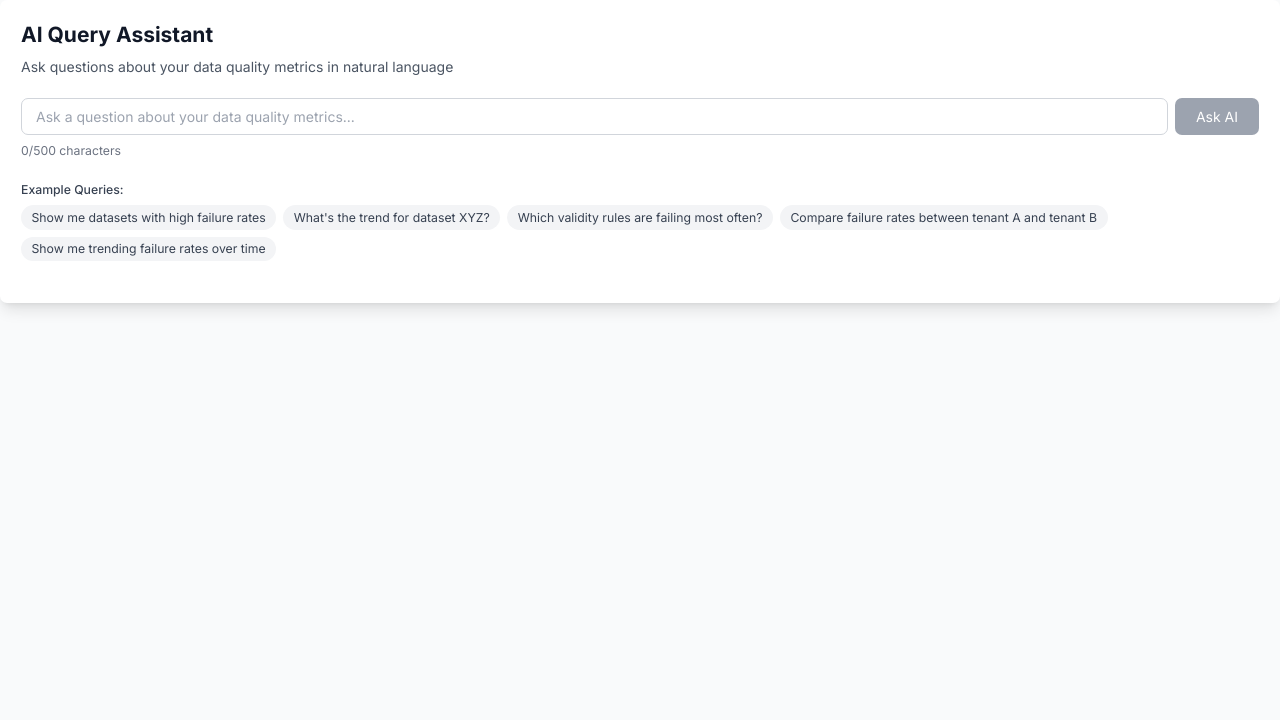
Test: AIQuerySection › successfully processes a query and displays chart
Type "Show me datasets with high failure rates" into the field with placeholder "Ask a question about your data quality metrics...".
click(594, 116); type("Show me datasets with high failure rates")  # box [21,98,1168,135]
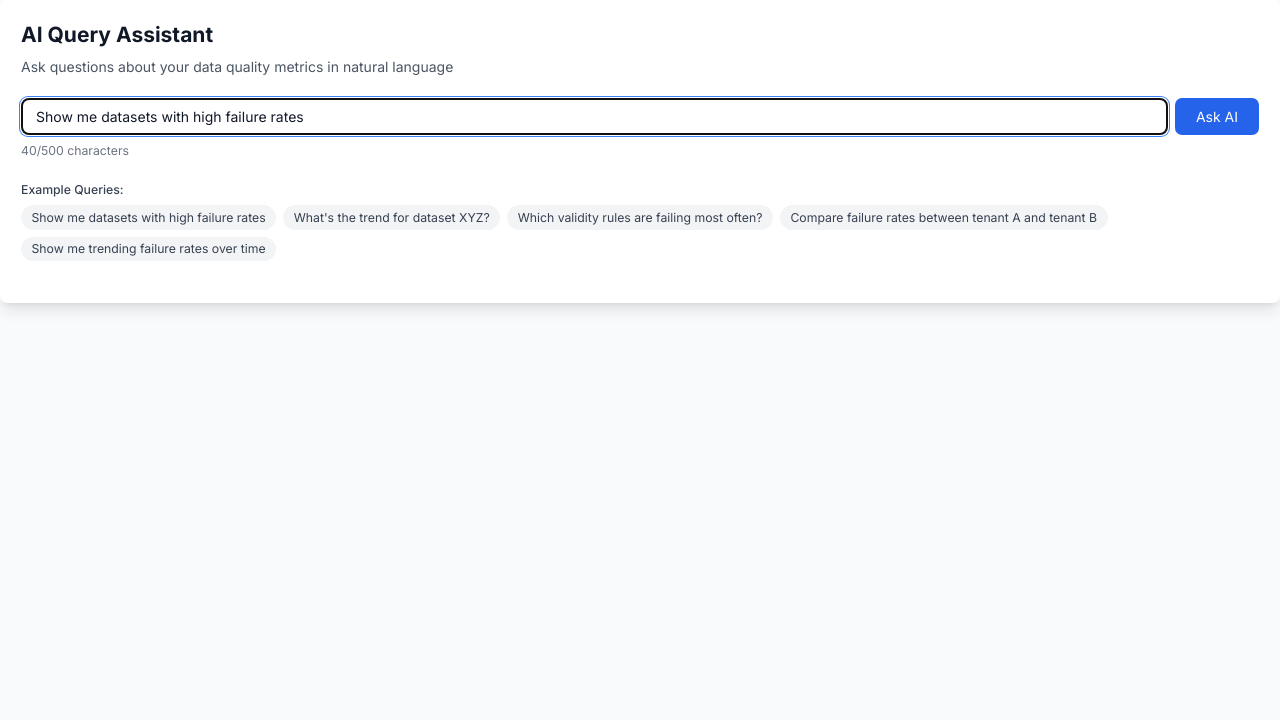
Click the button "Ask AI".
click(1217, 116)  # box [1175,98,1259,135]
(page scrolled)
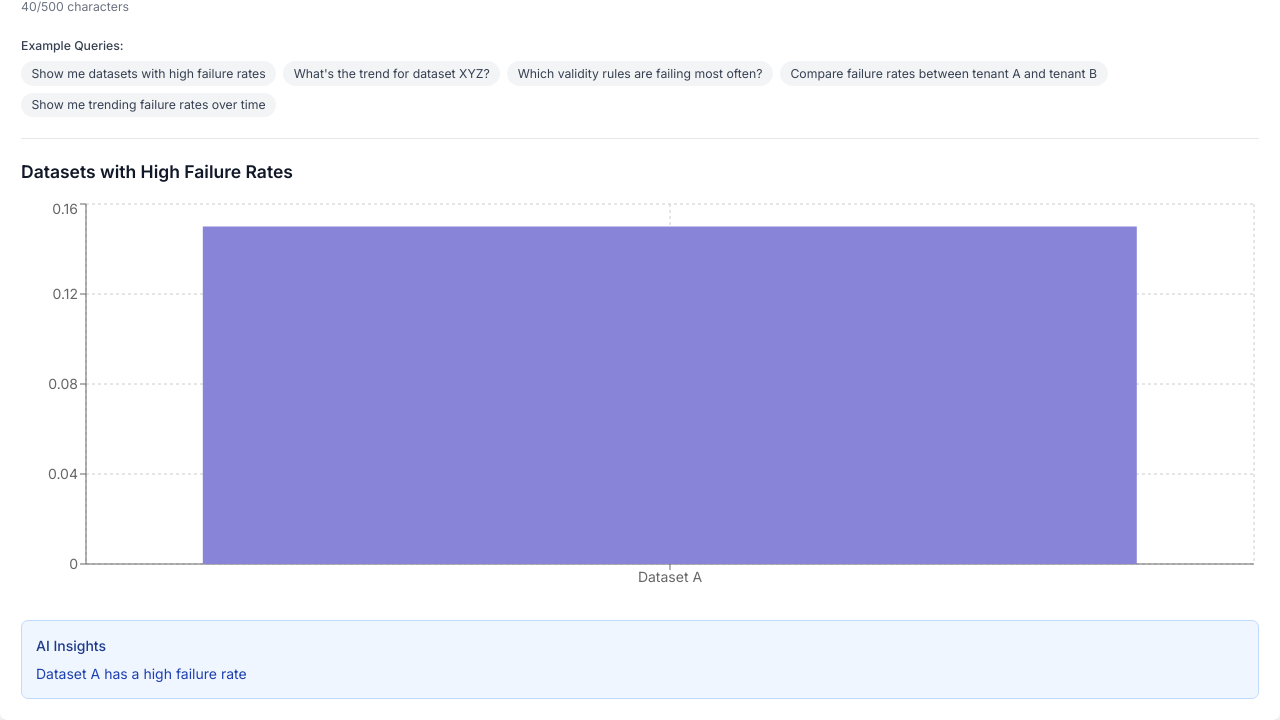
Expected: the heading "Datasets with High Failure Rates" is shown, [21,161,293,182]
Expected: the text "Dataset A has a high failure rate" is shown, [36,664,247,682]
